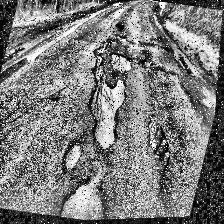pothole: (72, 52, 138, 154), (60, 174, 122, 222), (138, 118, 182, 176), (61, 136, 88, 176), (106, 50, 136, 78)
